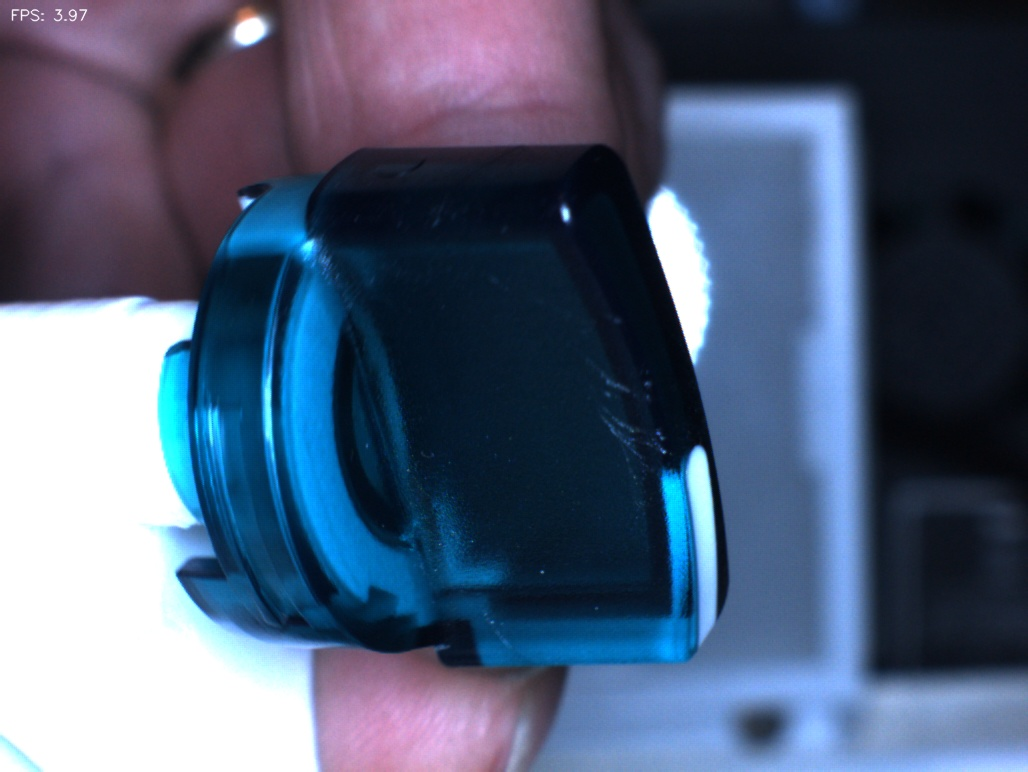Givrage: (559, 334, 677, 483)
